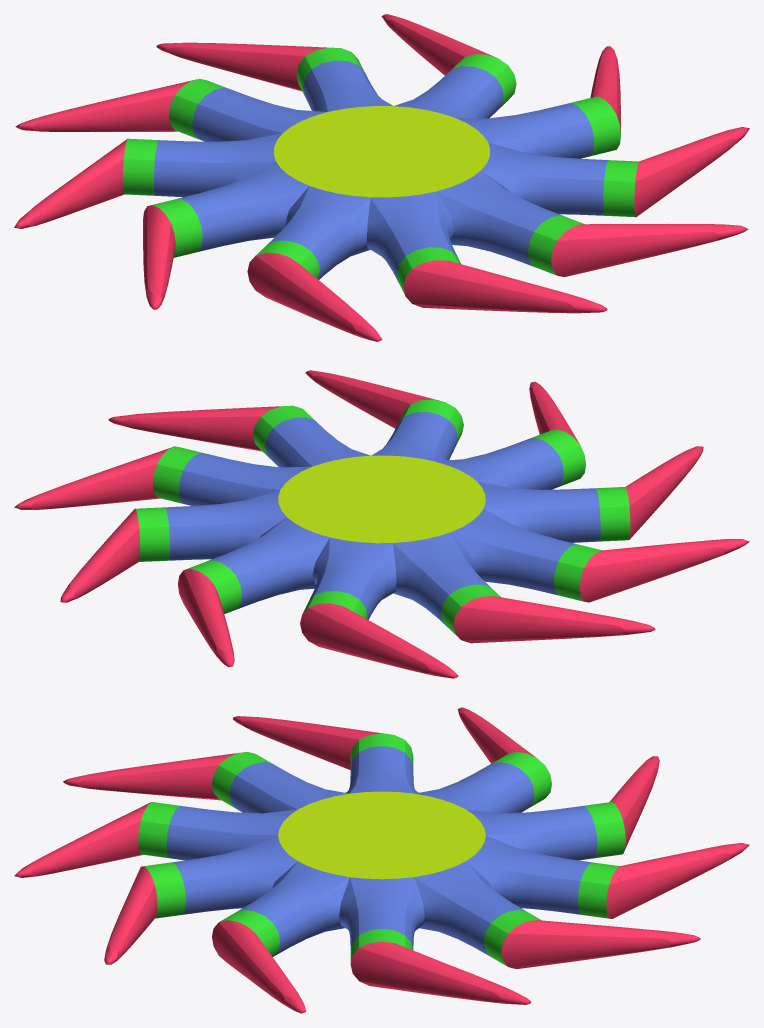
Rendered from Enemy_Saw.fbx.
3 renders of one model, top to bottom at view 1: azimuth 30°, elevation 25°; view 2: azimuth 150°, elevation 25°; view 3: azimuth 270°, elevation 25°, orthographic. The views are drawn at different scales.
Parts seen in each view (by area): view 1: Enemy_Saw; view 2: Enemy_Saw; view 3: Enemy_Saw.
Part boxes in pixels (<box>): Enemy_Saw: <box>14,14,749,341</box>; Enemy_Saw: <box>14,370,749,678</box>; Enemy_Saw: <box>14,707,749,1013</box>.
Bounding box in the file's own units: 1304 × 100 × 1328.
